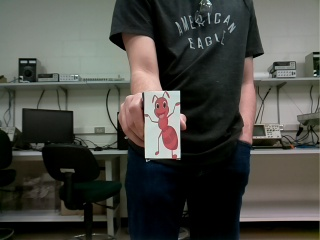Happy: (144, 91, 180, 158)
